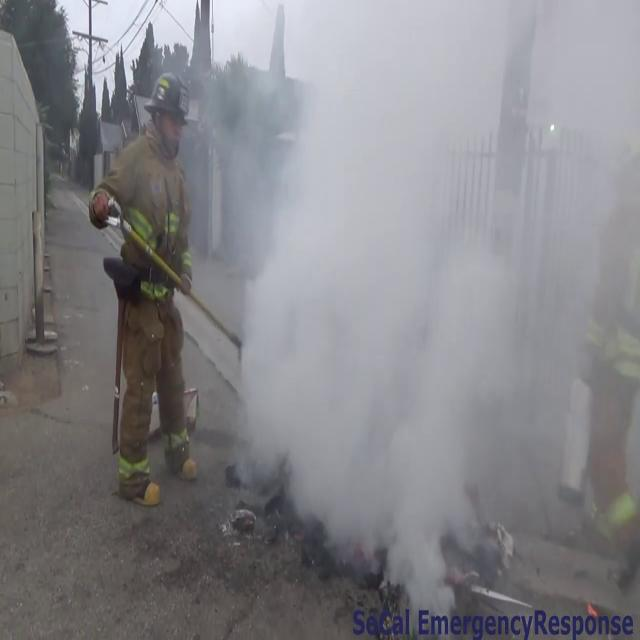Smoke: (205, 0, 640, 602)
